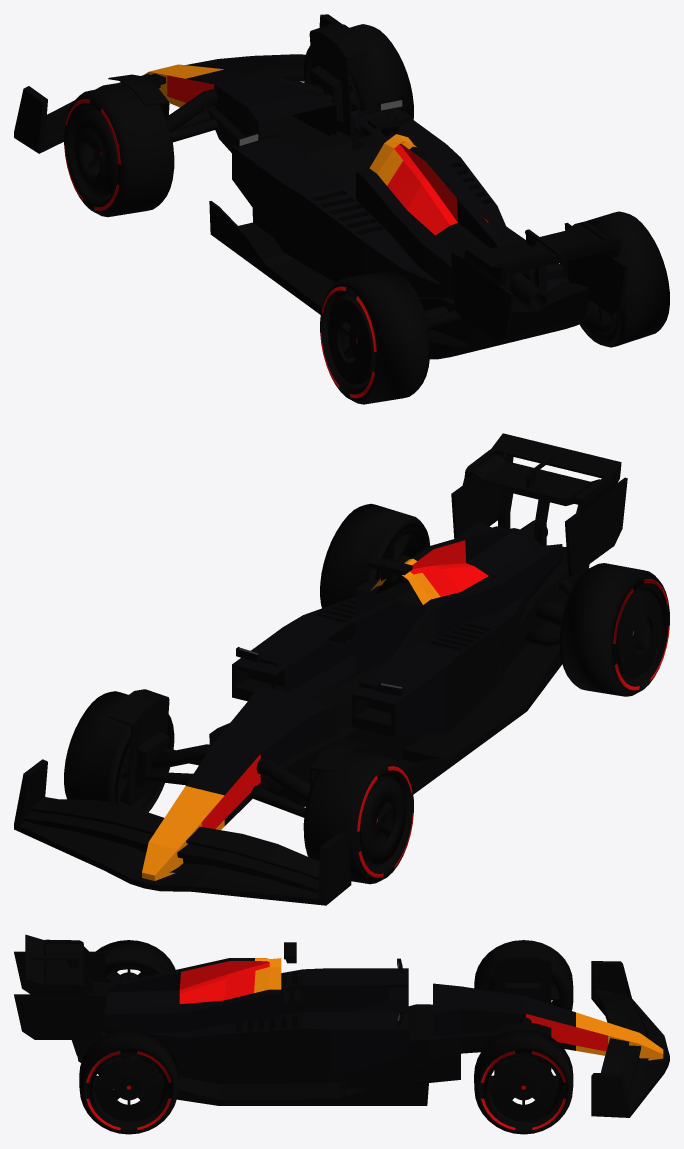
File: car163.glb
The picture shows the model from 3 angles, top to bottom: view 1: azimuth 30°, elevation 25°; view 2: azimuth 150°, elevation 25°; view 3: azimuth 270°, elevation 25°; orthographic projection. The views are drawn at different scales.
Parts seen in each view (by area): view 1: Base_Unsubsurfed, Sidepod, Bottom, RL_Tire, FL_Tire, Rear_Wing, RR_Tire, Front_Wing_Base, FR_Tire, R_Inside_Cover, FRod, L_Inside_Cover (+3 smaller); view 2: Base_Unsubsurfed, Sidepod, Front_Wing_Base, Bottom, Rear_Wing, RL_Tire, FL_Tire, RR_Tire, FR_Tire, R_Inside_Cover, FRod, RRod (+1 smaller); view 3: Sidepod, Base_Unsubsurfed, Bottom, RR_Tire, FR_Tire, Rear_Wing, Front_Wing_Base, L_Inside_Cover, RL_Tire, FL_Tire, R_Inside_Cover.
Boxes of the visible parts, x1=… form: Base_Unsubsurfed: x1=144, y1=64, x2=562, y2=300; Sidepod: x1=232, y1=108, x2=505, y2=297; Bottom: x1=206, y1=106, x2=596, y2=359; RL_Tire: x1=320, y1=270, x2=430, y2=404; FL_Tire: x1=64, y1=84, x2=174, y2=217; Rear_Wing: x1=451, y1=221, x2=627, y2=342; RR_Tire: x1=560, y1=211, x2=669, y2=347; Front_Wing_Base: x1=14, y1=14, x2=341, y2=153; FR_Tire: x1=303, y1=24, x2=413, y2=138; R_Inside_Cover: x1=309, y1=23, x2=370, y2=137; FRod: x1=168, y1=75, x2=332, y2=142; L_Inside_Cover: x1=108, y1=74, x2=169, y2=123; Base_Unsubsurfed: x1=142, y1=523, x2=562, y2=880; Sidepod: x1=232, y1=594, x2=525, y2=737; Front_Wing_Base: x1=14, y1=759, x2=351, y2=905; Bottom: x1=209, y1=522, x2=589, y2=806; Rear_Wing: x1=451, y1=433, x2=627, y2=576; RL_Tire: x1=559, y1=563, x2=669, y2=696; FL_Tire: x1=303, y1=751, x2=413, y2=884; RR_Tire: x1=320, y1=503, x2=430, y2=608; FR_Tire: x1=64, y1=691, x2=174, y2=812; R_Inside_Cover: x1=108, y1=689, x2=169, y2=806; FRod: x1=145, y1=744, x2=310, y2=817; RRod: x1=525, y1=579, x2=573, y2=646; Sidepod: x1=149, y1=968, x2=408, y2=1081; Base_Unsubsurfed: x1=90, y1=958, x2=663, y2=1060; Bottom: x1=71, y1=1004, x2=494, y2=1105; RR_Tire: x1=79, y1=1029, x2=178, y2=1134; FR_Tire: x1=474, y1=1031, x2=573, y2=1134; Rear_Wing: x1=14, y1=934, x2=106, y2=1039; Front_Wing_Base: x1=591, y1=961, x2=669, y2=1117; L_Inside_Cover: x1=494, y1=945, x2=551, y2=1004; RL_Tire: x1=96, y1=940, x2=175, y2=981; FL_Tire: x1=474, y1=940, x2=573, y2=1010; R_Inside_Cover: x1=494, y1=1023, x2=551, y2=1089.
Size of the model in its own units: 2.29 by 1.23 by 5.4.
